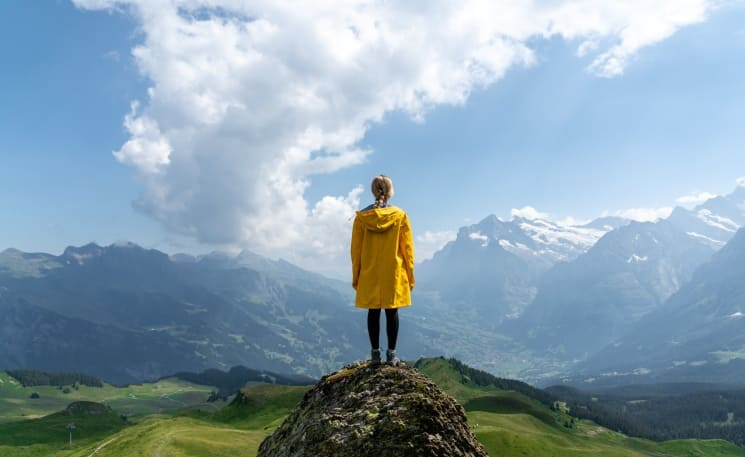person: (352, 177, 414, 358)
